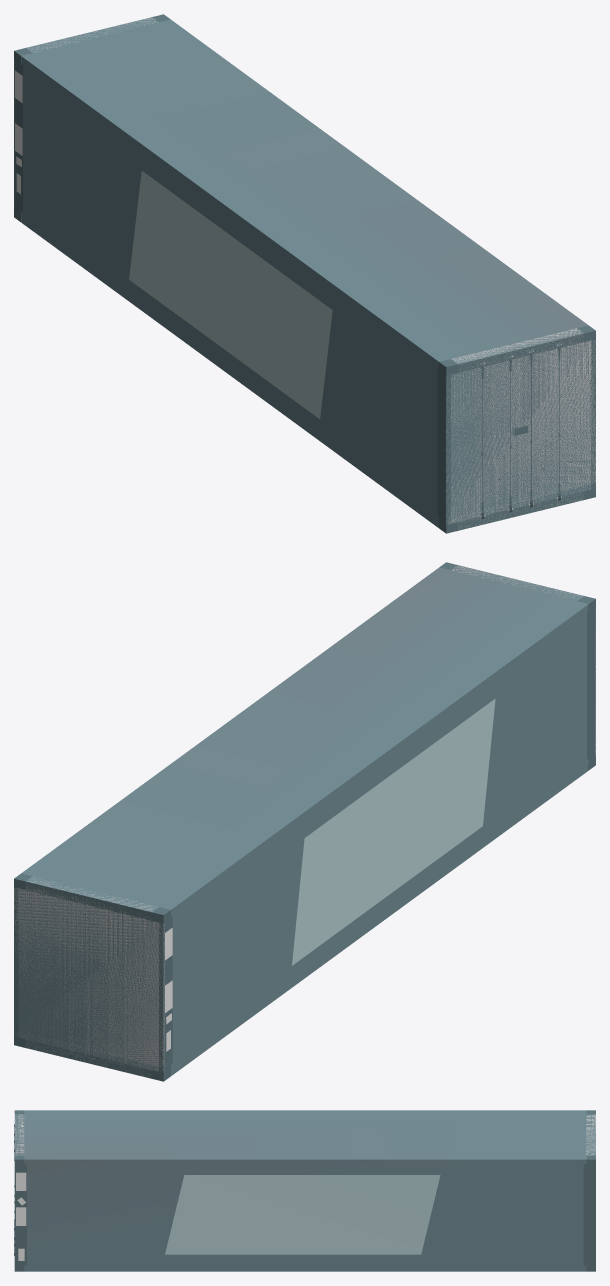
The model's file is s_containers_40_folk.dae.
The picture shows the model from 3 angles, top to bottom: view 1: azimuth 30°, elevation 25°; view 2: azimuth 150°, elevation 25°; view 3: azimuth 270°, elevation 25°; orthographic projection. The views are drawn at different scales.
Parts seen in each view (by area): view 1: s_containers_40_folk_a40, Colmesh_s_containers_40_folk-1, s_containers_40_folk_a1500, s_containers_40_folk_a150, s_containers_40_folk_a600; view 2: s_containers_40_folk_a40, Colmesh_s_containers_40_folk-1, s_containers_40_folk_a150, s_containers_40_folk_a1500, s_containers_40_folk_a600; view 3: s_containers_40_folk_a40, s_containers_40_folk_a1500, s_containers_40_folk_a600, Colmesh_s_containers_40_folk-1, s_containers_40_folk_a150.
Part boxes in pixels (<box>): s_containers_40_folk_a40: <box>14,17,595,530</box>; Colmesh_s_containers_40_folk-1: <box>14,17,595,527</box>; s_containers_40_folk_a1500: <box>14,14,595,533</box>; s_containers_40_folk_a150: <box>446,333,595,530</box>; s_containers_40_folk_a600: <box>14,14,595,533</box>; s_containers_40_folk_a40: <box>14,565,595,1078</box>; Colmesh_s_containers_40_folk-1: <box>14,565,595,1076</box>; s_containers_40_folk_a150: <box>14,881,163,1078</box>; s_containers_40_folk_a1500: <box>14,562,595,1081</box>; s_containers_40_folk_a600: <box>14,562,595,1081</box>; s_containers_40_folk_a40: <box>14,1110,595,1271</box>; s_containers_40_folk_a1500: <box>14,1110,595,1271</box>; s_containers_40_folk_a600: <box>15,1110,595,1271</box>; Colmesh_s_containers_40_folk-1: <box>14,1114,595,1163</box>; s_containers_40_folk_a150: <box>14,1165,595,1265</box>.
Size of the model in its own units: 2.65 by 12.21 by 2.6.
